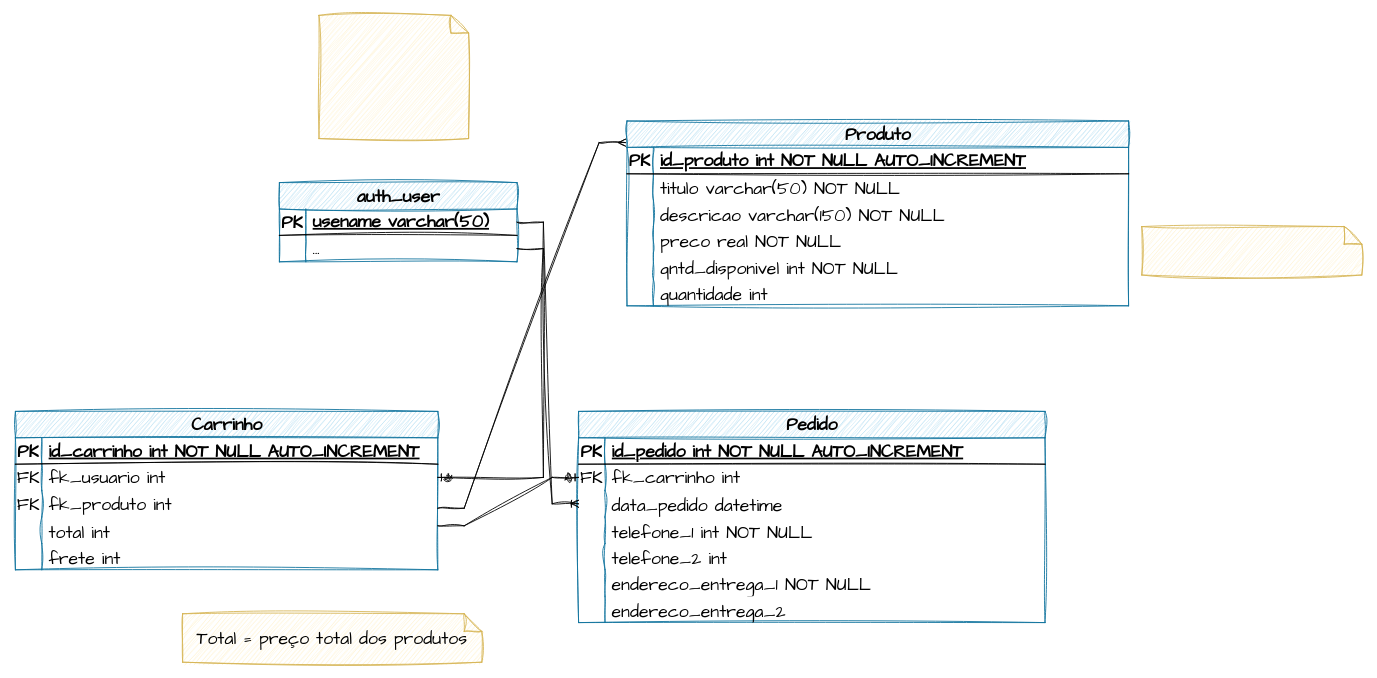
Some shapes in this 1377 by 678 pixel diagram are drawn without their labels. Each missing label, with the box of its shape:
Essa tabela é gerada pelo Django: (318, 15, 469, 139)
quantidade = quantos vai querer?: (1141, 226, 1362, 275)
